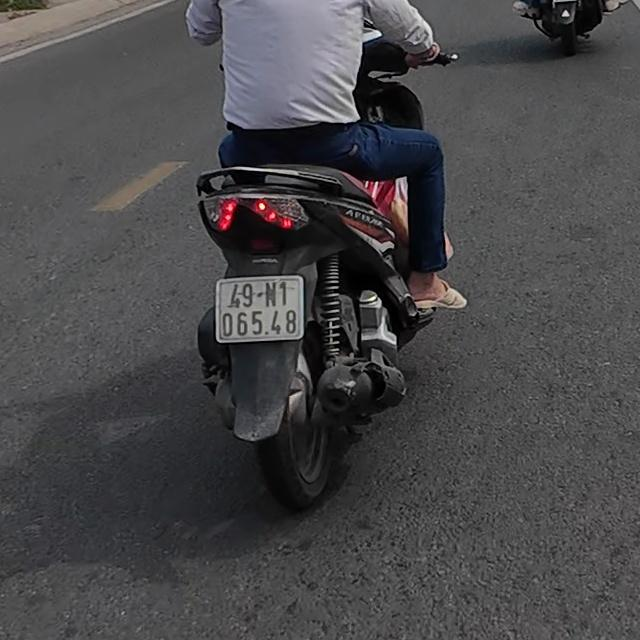license-plate: (214, 275, 305, 343)
